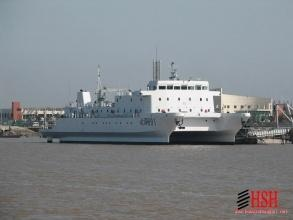otherboat: (35, 59, 250, 145)
